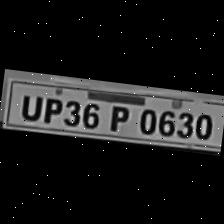0: (133, 103, 158, 135), (190, 109, 214, 141)
3: (58, 95, 82, 127), (173, 108, 195, 140)
6: (78, 98, 103, 130), (154, 106, 176, 137)
P: (104, 100, 132, 133), (38, 92, 62, 124)
U: (14, 90, 42, 122)
